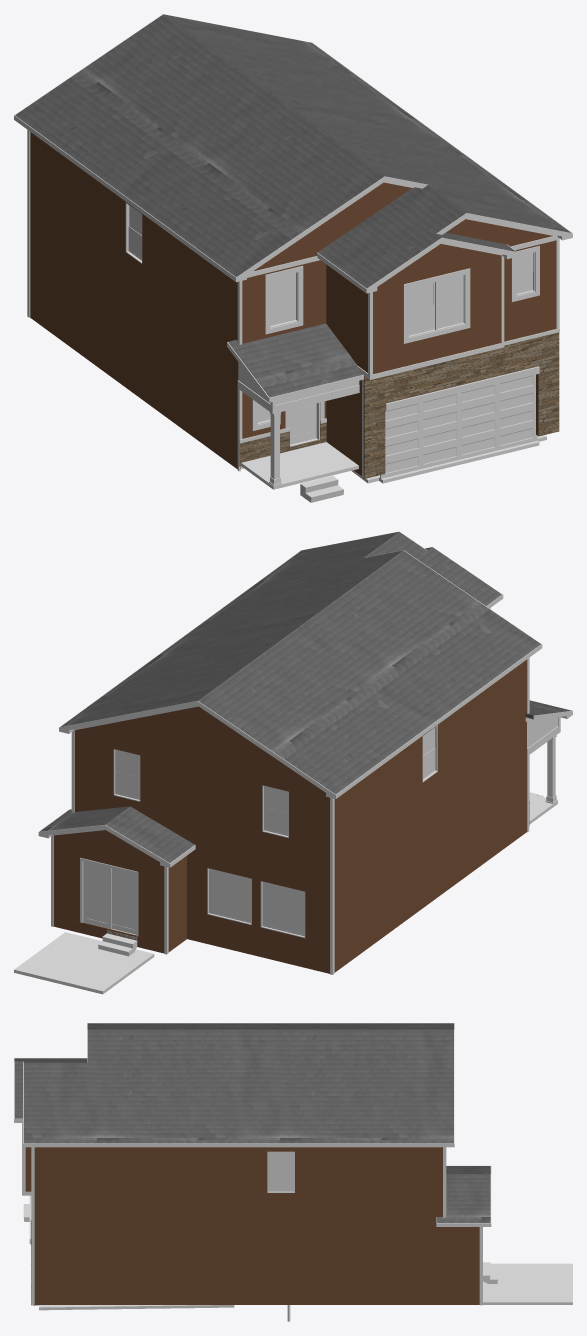
Rendered from 229-1994-dm-farmhouse.glb.
3 views of the same model, one above another, from view 1: azimuth 30°, elevation 25°; view 2: azimuth 150°, elevation 25°; view 3: azimuth 270°, elevation 25° (orthographic). The views are drawn at different scales.
Parts seen in each view (by area): view 1: Basic Roof Wood Rafter 4" - Asphalt Shingle - Insulated_22fc, Basic Wall BSB Exterior - Stud_5.5" - Sheathing_0.5" - _cba5, Traditional - BSB Exterior - Overhead Garage Door - Clo_8e24, Basic Wall BSB Exterior - Stud_3.5" - Sheathing_0.5" - _7f34, Basic Wall BSB Exterior - Stone Veneer_2" [4683545], Basic Wall BSB Exterior - Stud_3.5" - Sheathing_0.5" - _3cfc, Basic Wall BSB Exterior - Stud_5.5" - Sheathing_0.5" - _f261, Basic Roof Wood Rafter 4" - Asphalt Shingle - Insulated_fac2, Basic Wall BSB Exterior - Stud_3.5" - Sheathing_0.5" - _df46, Fascia Fascia-Flat 1x6 w/12" Soffit Bd [4245591], Basic Wall BSB Exterior - Stud_5.5" - Sheathing_0.5" - _2a00, Basic Wall BSB Exterior - Stud_3.5" - Sheathing_0.5" - _abe4 (+28 smaller); view 2: Basic Roof Wood Rafter 4" - Asphalt Shingle - Insulated_22fc, Basic Wall BSB Exterior - Stud_3.5" - Sheathing_0.5" - _2e51, Basic Wall BSB Exterior - Stud_5.5" - Sheathing_0.5" - _cba5, Basic Wall BSB Exterior - Stud_3.5" - Sheathing_0.5" - _ca60, Basic Wall BSB Exterior - Stud_3.5" - Sheathing_0.5" - _7f34, Basic Wall BSB Exterior - Stud_3.5" - Sheathing_0.5" - _a688, Basic Wall BSB Exterior - Stud_1.5" - Sheathing_0.5" - _3563, Basic Wall BSB Exterior - Stud_5.5" - Sheathing_0.5" - _f261, Floor BSB Concrete Slab - 4" - Slope Option [4621636], Basic Wall BSB Exterior - Stud_3.5" - Sheathing_0.5" - _df46, BSB Exterior - SGD XO - 1-Lite 6068 [4608851], Basic Roof Wood Rafter 4" - Asphalt Shingle - Insulated_5cc2 (+14 smaller); view 3: Basic Roof Wood Rafter 4" - Asphalt Shingle - Insulated_22fc, Basic Wall BSB Exterior - Stud_3.5" - Sheathing_0.5" - _3bf5, Basic Wall BSB Exterior - Stud_3.5" - Sheathing_0.5" - _f4ce, Basic Wall BSB Exterior - Stud_3.5" - Sheathing_0.5" - _a8d1, Basic Wall BSB Exterior - Stud_3.5" - Sheathing_0.5" - _2a5f, Basic Wall BSB Exterior - Stud_3.5" - Sheathing_0.5" - _63a0, Floor BSB Concrete Slab - 4" - Slope Option [4621636], Fascia Fascia-Flat 1x6 w/12" Soffit Bd [4245591], Basic Roof Wood Rafter 4" - Asphalt Shingle - Insulated_5cc2, Basic Wall BSB Exterior - Stud_3.5" - Sheathing_0.5" - _9e59, Basic Wall BSB Exterior - Stud_3.5" - Sheathing_0.5" - _e847, Basic Wall BSB Exterior - Stud_3.5" - Sheathing_0.5" - _bfd5 (+4 smaller).
Boxes of the visible parts, box(x1,y1,x2,y2) form: Basic Roof Wood Rafter 4" - Asphalt Shingle - Insulated_22fc: box(15, 14, 571, 288); Basic Wall BSB Exterior - Stud_5.5" - Sheathing_0.5" - _cba5: box(123, 200, 198, 440); Traditional - BSB Exterior - Overhead Garage Door - Clo_8e24: box(380, 374, 537, 478); Basic Wall BSB Exterior - Stud_3.5" - Sheathing_0.5" - _7f34: box(30, 215, 123, 385); Basic Wall BSB Exterior - Stone Veneer_2" [4683545]: box(363, 329, 559, 478); Basic Wall BSB Exterior - Stud_3.5" - Sheathing_0.5" - _3cfc: box(373, 255, 501, 374); Basic Wall BSB Exterior - Stud_5.5" - Sheathing_0.5" - _f261: box(198, 255, 233, 466); Basic Roof Wood Rafter 4" - Asphalt Shingle - Insulated_fac2: box(228, 323, 363, 397); Basic Wall BSB Exterior - Stud_3.5" - Sheathing_0.5" - _df46: box(30, 132, 93, 260); Fascia Fascia-Flat 1x6 w/12" Soffit Bd [4245591]: box(14, 14, 571, 292); Basic Wall BSB Exterior - Stud_5.5" - Sheathing_0.5" - _2a00: box(245, 260, 326, 437); Basic Wall BSB Exterior - Stud_3.5" - Sheathing_0.5" - _abe4: box(504, 240, 556, 341); Basic Roof Wood Rafter 4" - Asphalt Shingle - Insulated_22fc: box(61, 532, 540, 794); Basic Wall BSB Exterior - Stud_3.5" - Sheathing_0.5" - _2e51: box(74, 730, 329, 878); Basic Wall BSB Exterior - Stud_5.5" - Sheathing_0.5" - _cba5: box(420, 686, 490, 909); Basic Wall BSB Exterior - Stud_3.5" - Sheathing_0.5" - _ca60: box(187, 845, 329, 973); Basic Wall BSB Exterior - Stud_3.5" - Sheathing_0.5" - _7f34: box(334, 815, 420, 972); Basic Wall BSB Exterior - Stud_3.5" - Sheathing_0.5" - _a688: box(54, 830, 164, 953); Basic Wall BSB Exterior - Stud_1.5" - Sheathing_0.5" - _3563: box(77, 706, 319, 788); Basic Wall BSB Exterior - Stud_5.5" - Sheathing_0.5" - _f261: box(490, 662, 522, 858); Floor BSB Concrete Slab - 4" - Slope Option [4621636]: box(14, 932, 154, 994); Basic Wall BSB Exterior - Stud_3.5" - Sheathing_0.5" - _df46: box(334, 758, 392, 876); BSB Exterior - SGD XO - 1-Lite 6068 [4608851]: box(80, 858, 138, 936); Basic Roof Wood Rafter 4" - Asphalt Shingle - Insulated_5cc2: box(40, 806, 194, 862); Basic Roof Wood Rafter 4" - Asphalt Shingle - Insulated_22fc: box(14, 1023, 453, 1143); Basic Wall BSB Exterior - Stud_3.5" - Sheathing_0.5" - _3bf5: box(277, 1219, 479, 1304); Basic Wall BSB Exterior - Stud_3.5" - Sheathing_0.5" - _f4ce: box(69, 1219, 263, 1304); Basic Wall BSB Exterior - Stud_3.5" - Sheathing_0.5" - _a8d1: box(69, 1147, 229, 1219); Basic Wall BSB Exterior - Stud_3.5" - Sheathing_0.5" - _2a5f: box(331, 1147, 442, 1219); Basic Wall BSB Exterior - Stud_3.5" - Sheathing_0.5" - _63a0: box(229, 1147, 331, 1219); Floor BSB Concrete Slab - 4" - Slope Option [4621636]: box(483, 1263, 572, 1304); Fascia Fascia-Flat 1x6 w/12" Soffit Bd [4245591]: box(14, 1023, 454, 1147); Basic Roof Wood Rafter 4" - Asphalt Shingle - Insulated_5cc2: box(436, 1166, 490, 1222); Basic Wall BSB Exterior - Stud_3.5" - Sheathing_0.5" - _9e59: box(34, 1147, 69, 1219); Basic Wall BSB Exterior - Stud_3.5" - Sheathing_0.5" - _e847: box(42, 1219, 69, 1304); Basic Wall BSB Exterior - Stud_3.5" - Sheathing_0.5" - _bfd5: box(263, 1219, 276, 1304).
Size of the model in its own units: 9.49 by 10.37 by 18.61.
Materials: 3 (2 with a texture image).
